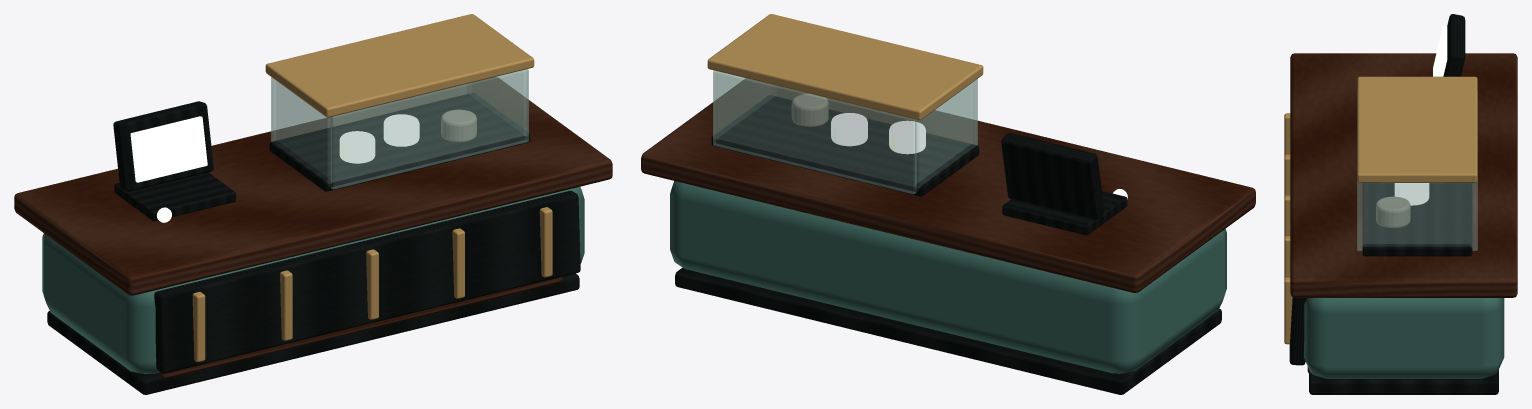
Rendered from shop-counter.glb.
3 views of the same model, side by side, from view 1: azimuth 30°, elevation 25°; view 2: azimuth 150°, elevation 25°; view 3: azimuth 270°, elevation 25° (orthographic). The views are drawn at different scales.
Parts seen in each view (by area): view 1: Shop_Counter_Top, Shop_Counter_Front, Shop_Display_Top, Shop_Display_GlassFront, Shop_Display_Base, Shop_Counter_Body, Shop_Counter_Plinth, Shop_Display_End_-0.04, Shop_Register_Display, Shop_Display_GlassBack, Shop_Register_Screen, Shop_Register_Base (+10 smaller); view 2: Shop_Counter_Body, Shop_Counter_Top, Shop_Display_Top, Shop_Display_GlassBack, Shop_Display_Base, Shop_Counter_Plinth, Shop_Register_Screen, Shop_Display_End_-0.04, Shop_Display_GlassFront, Shop_Display_End_1.6, Shop_Register_Base, Shop_Display_Item_2 (+2 smaller); view 3: Shop_Counter_Top, Shop_Counter_Body, Shop_Display_Top, Shop_Display_End_1.6, Shop_Display_Base, Shop_Counter_Plinth, Shop_Register_Screen, Shop_Display_Item_3, Shop_Counter_Front, Shop_Display_Item_2, Shop_Register_Display, Shop_Counter_Rib_1.45 (+6 smaller).
Part boxes in pixels (box(x1,y1,x2,y2)): Shop_Counter_Top: box(14, 77, 612, 295); Shop_Counter_Front: box(154, 190, 580, 373); Shop_Display_Top: box(265, 14, 534, 117); Shop_Display_GlassFront: box(331, 69, 528, 189); Shop_Display_Base: box(269, 93, 530, 191); Shop_Counter_Body: box(42, 186, 584, 373); Shop_Counter_Plinth: box(47, 273, 579, 394); Shop_Display_End_-0.04: box(271, 77, 331, 185); Shop_Register_Display: box(130, 116, 207, 182); Shop_Display_GlassBack: box(271, 77, 467, 141); Shop_Register_Screen: box(113, 101, 213, 191); Shop_Register_Base: box(114, 172, 236, 221); Shop_Counter_Body: box(670, 181, 1226, 373); Shop_Counter_Top: box(641, 78, 1255, 292); Shop_Display_Top: box(707, 14, 983, 120); Shop_Display_GlassBack: box(713, 71, 916, 193); Shop_Display_Base: box(711, 95, 979, 196); Shop_Counter_Plinth: box(675, 267, 1221, 394); Shop_Register_Screen: box(1001, 133, 1104, 219); Shop_Display_End_-0.04: box(915, 79, 977, 190); Shop_Display_GlassFront: box(776, 79, 977, 144); Shop_Display_End_1.6: box(713, 70, 774, 138); Shop_Register_Base: box(1002, 191, 1127, 235); Shop_Display_Item_2: box(831, 113, 867, 146); Shop_Counter_Top: box(1290, 53, 1517, 297); Shop_Counter_Body: box(1304, 298, 1504, 378); Shop_Display_Top: box(1357, 76, 1477, 182); Shop_Display_End_1.6: box(1363, 183, 1471, 246); Shop_Display_Base: box(1362, 183, 1472, 256); Shop_Counter_Plinth: box(1309, 369, 1498, 394); Shop_Register_Screen: box(1443, 14, 1465, 76); Shop_Display_Item_3: box(1376, 196, 1410, 227); Shop_Counter_Front: box(1289, 297, 1306, 365); Shop_Display_Item_2: box(1394, 183, 1429, 205); Shop_Register_Display: box(1433, 25, 1447, 76); Shop_Counter_Rib_1.45: box(1284, 277, 1292, 344).
Bounding box in the file's own units: 4.05 × 1.75 × 1.75.
Materials: 10 (5 with a texture image).
